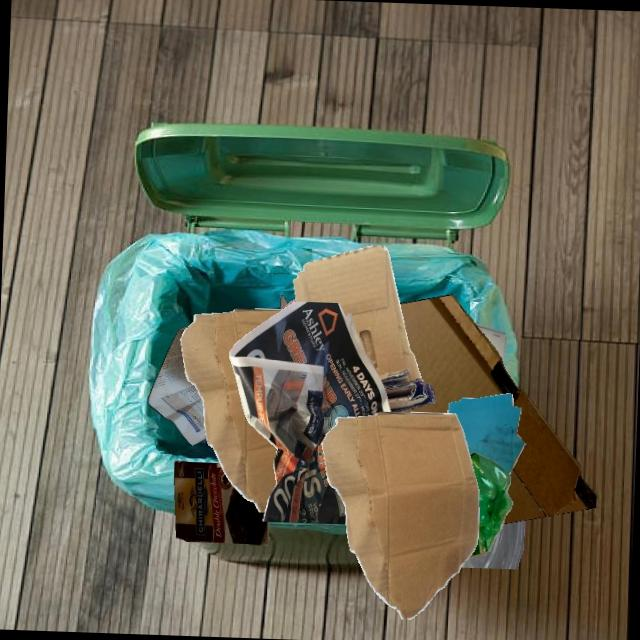cardboard: (399, 294, 597, 523), (321, 412, 479, 619), (292, 245, 435, 412), (180, 308, 283, 512), (173, 461, 269, 544)
metal: (283, 299, 296, 309)
paper: (229, 301, 391, 524), (147, 324, 206, 445), (447, 392, 525, 475), (474, 323, 506, 364)
plastic: (468, 451, 512, 558), (460, 520, 525, 569)
